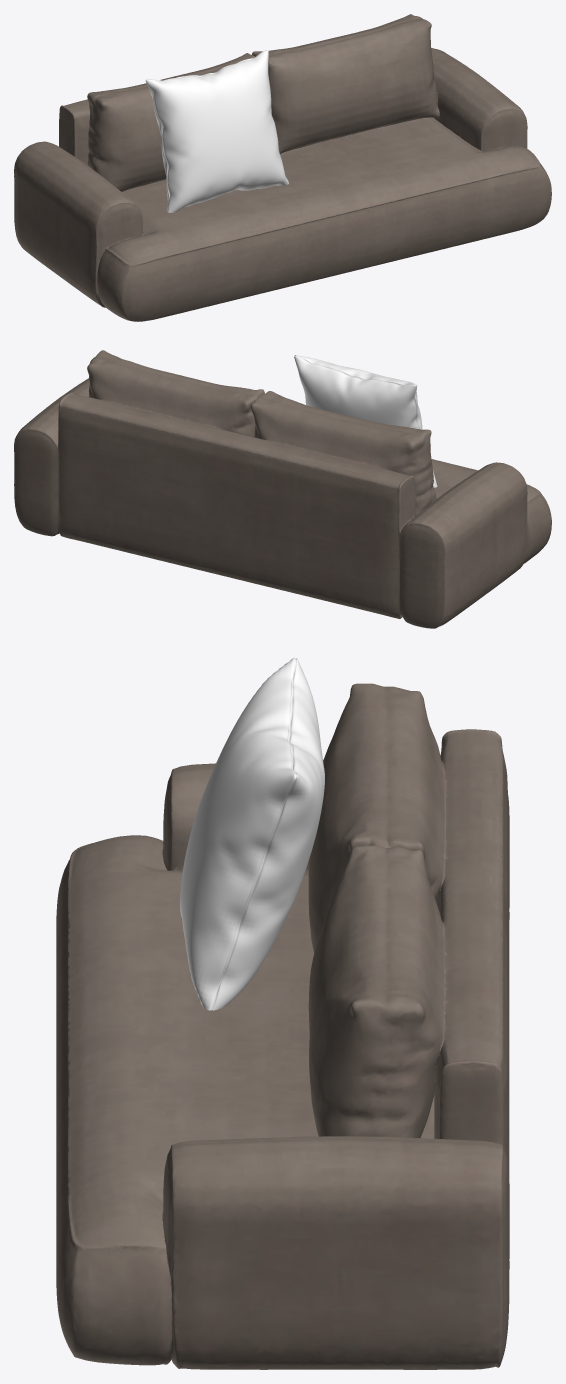
File: escena_1cojin.glb
3 renders of one model, top to bottom at view 1: azimuth 30°, elevation 25°; view 2: azimuth 150°, elevation 25°; view 3: azimuth 270°, elevation 25°, orthographic. The views are drawn at different scales.
Parts seen in each view (by area): view 1: geometry_0, Object_2; view 2: geometry_0, Object_2; view 3: geometry_0, Object_2.
Part boxes in pixels (x1,y1,x2,y2): geometry_0: (14,14,551,321); Object_2: (145,50,288,212); geometry_0: (14,350,551,628); Object_2: (294,355,437,487); geometry_0: (56,683,509,1369); Object_2: (180,657,324,1010).
Size of the model in its own units: 1 by 0.4212 by 0.4499.
2 materials, 1 textured.
